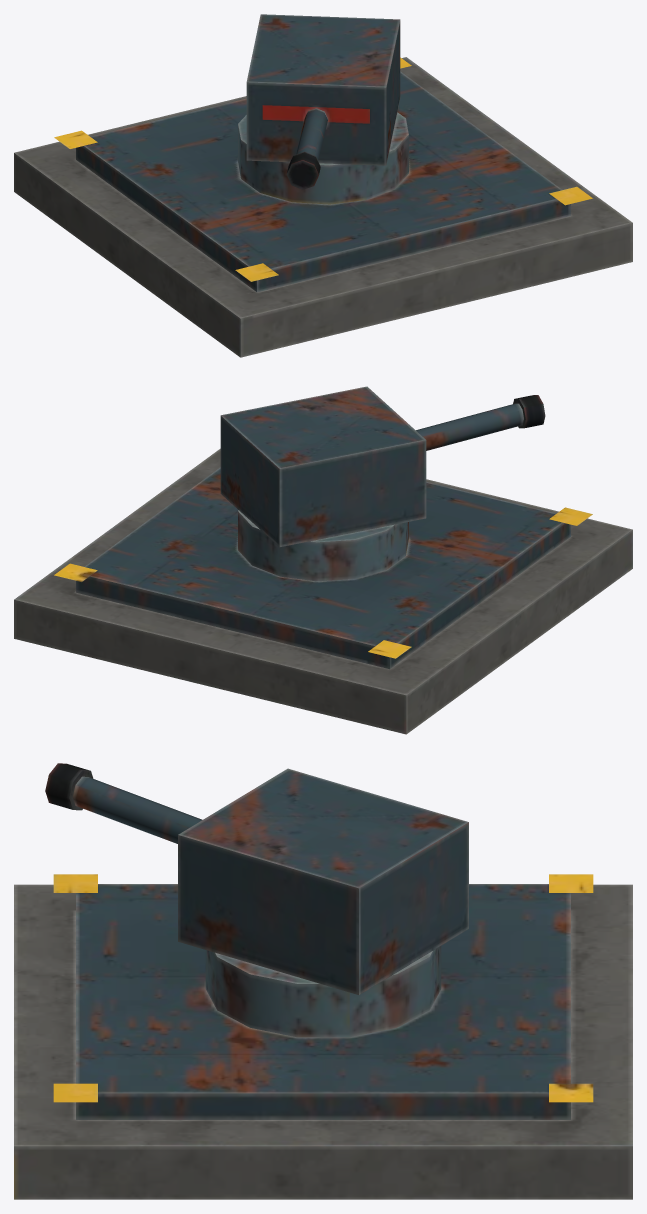
Rendered from medium_cannon.glb.
The picture shows the model from 3 angles, top to bottom: view 1: azimuth 30°, elevation 25°; view 2: azimuth 150°, elevation 25°; view 3: azimuth 270°, elevation 25°; orthographic projection. The views are drawn at different scales.
Visible parts, largest first — view 1: te_medium_cannon; view 2: te_medium_cannon; view 3: te_medium_cannon.
Boxes of the visible parts, x1,y1,x2,y2 form: te_medium_cannon: (14,14,632,357); te_medium_cannon: (14,386,632,734); te_medium_cannon: (14,763,632,1199).
Bounding box in the file's own units: 0.84 × 0.36 × 0.84.
Materials: 1 (1 with a texture image).
